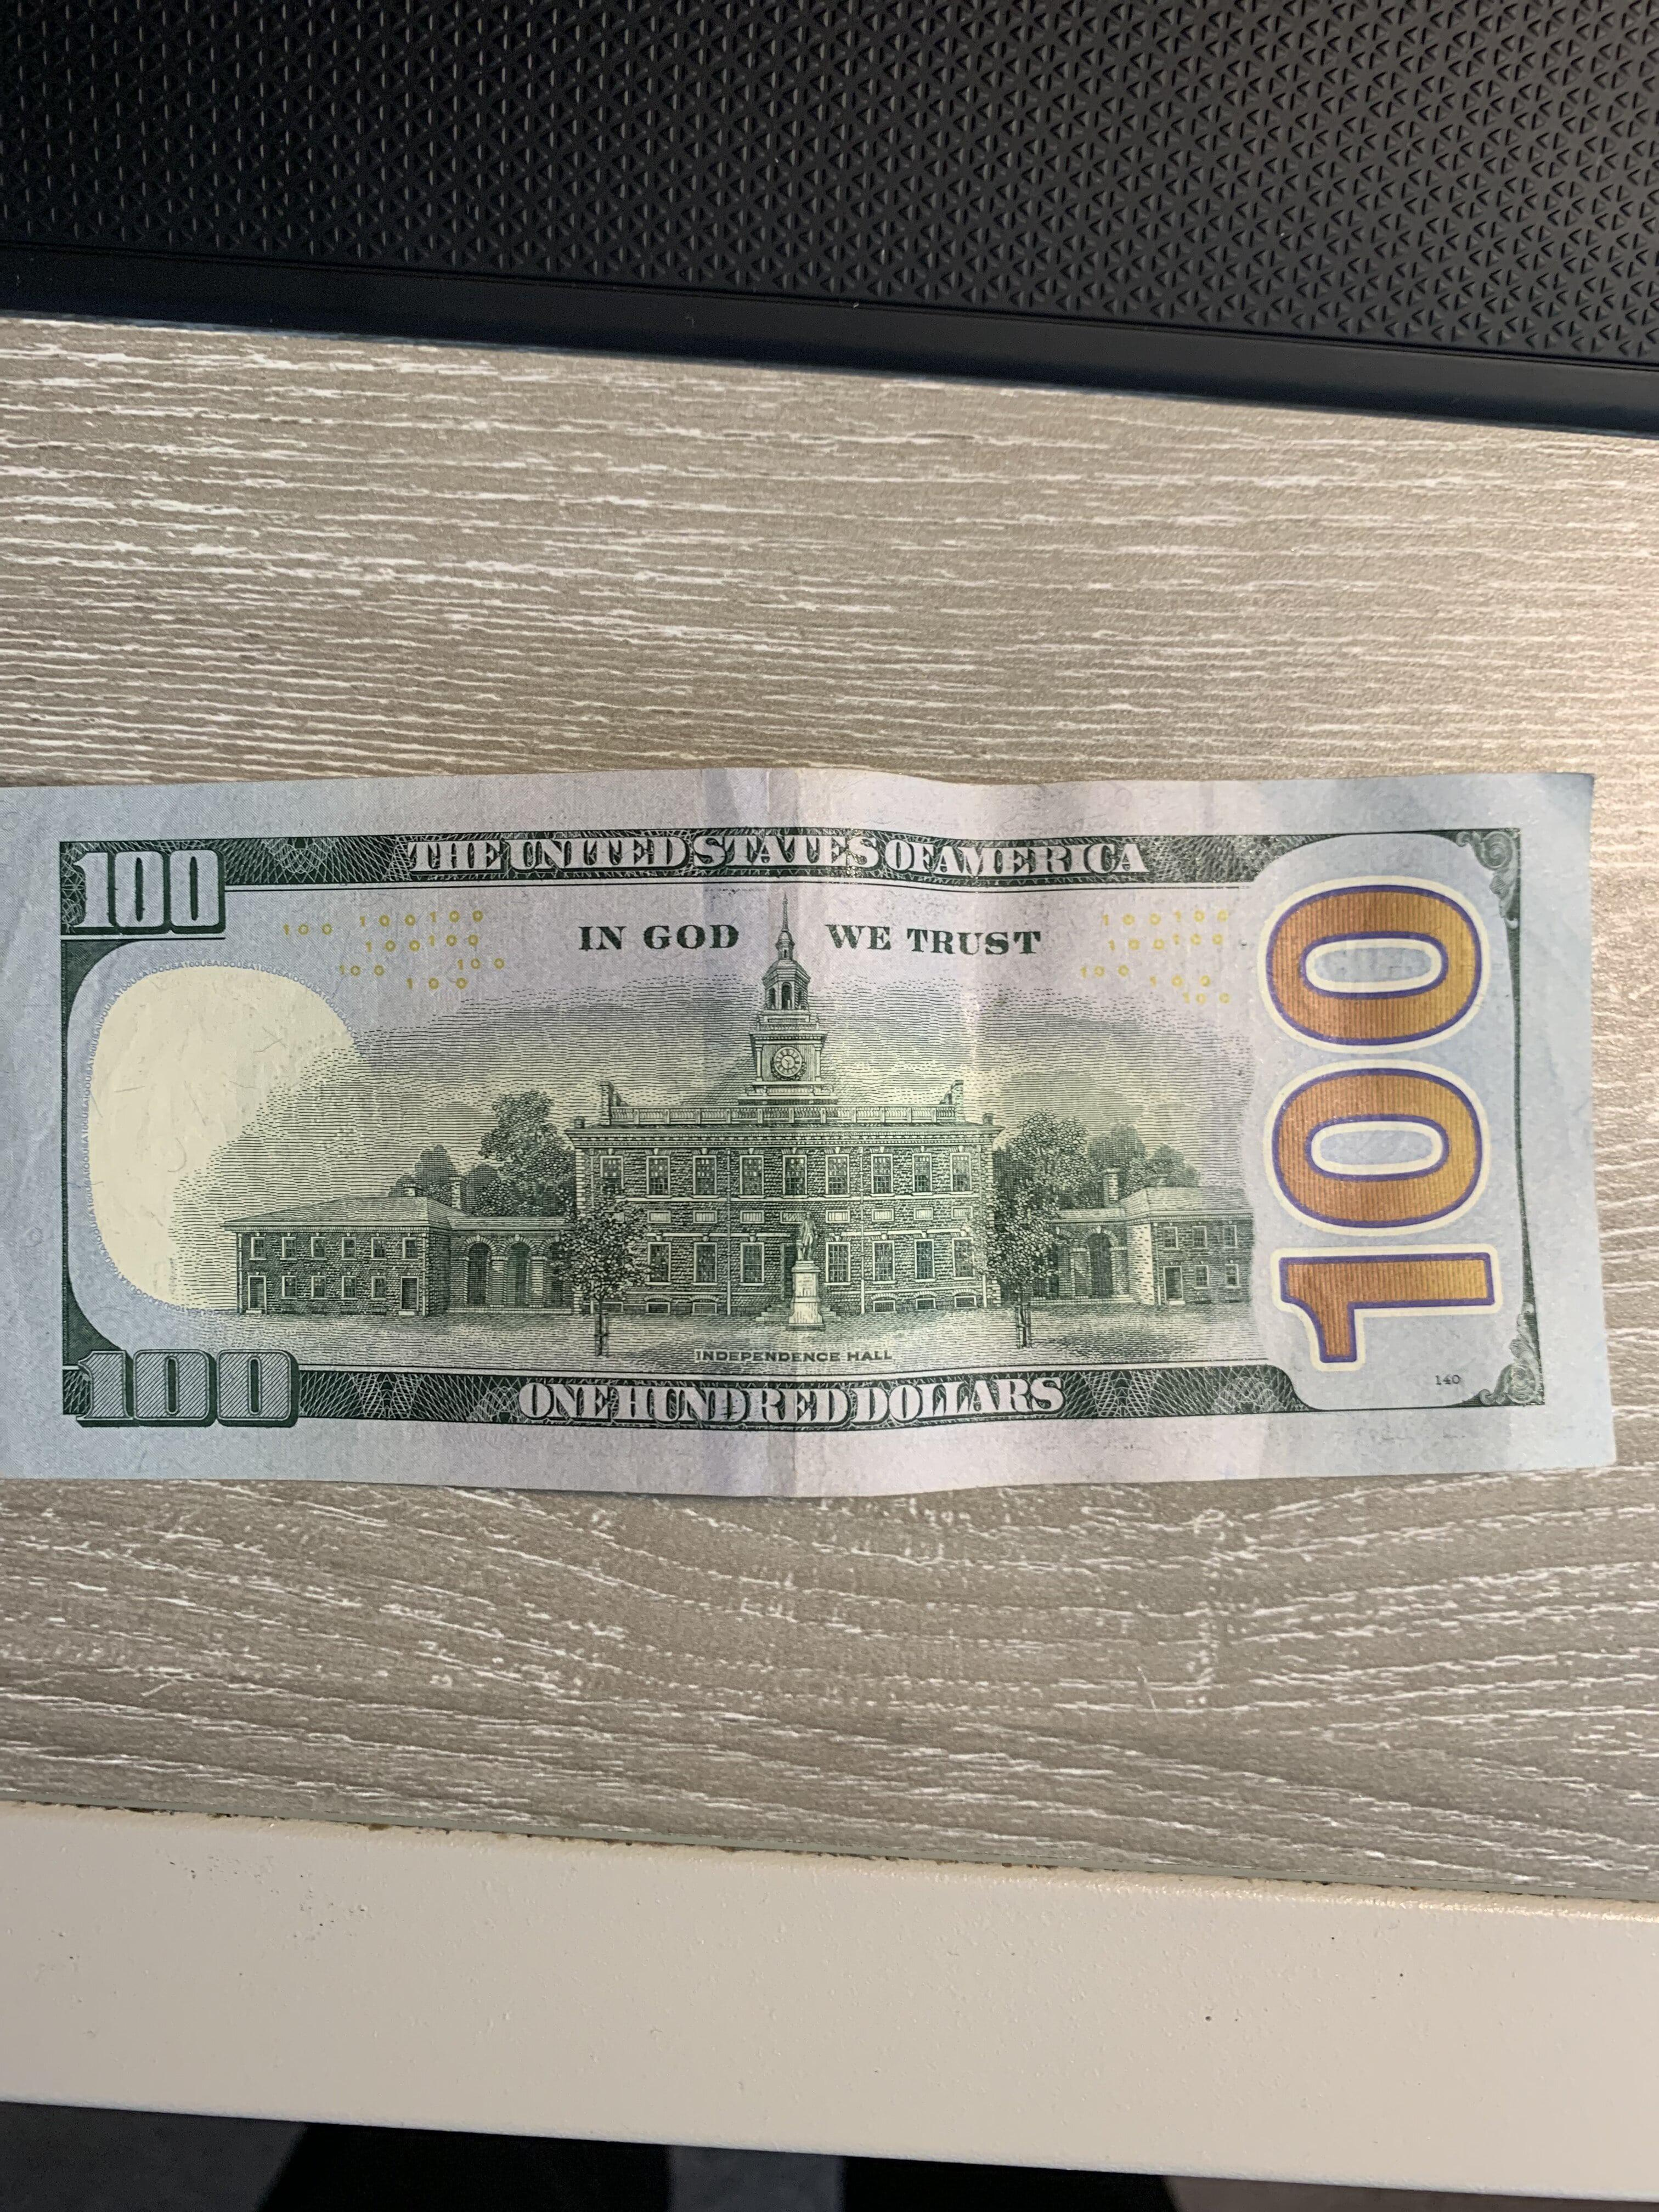HundredBill: (2, 742, 1638, 1519)
